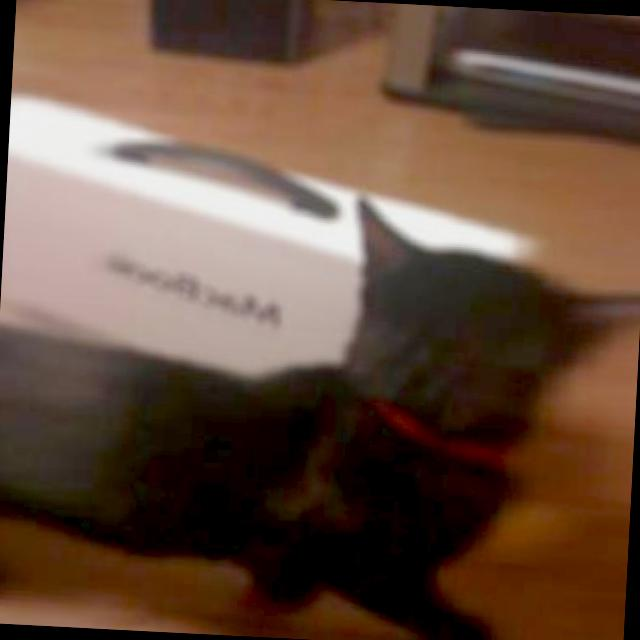box: (0, 67, 505, 446)
